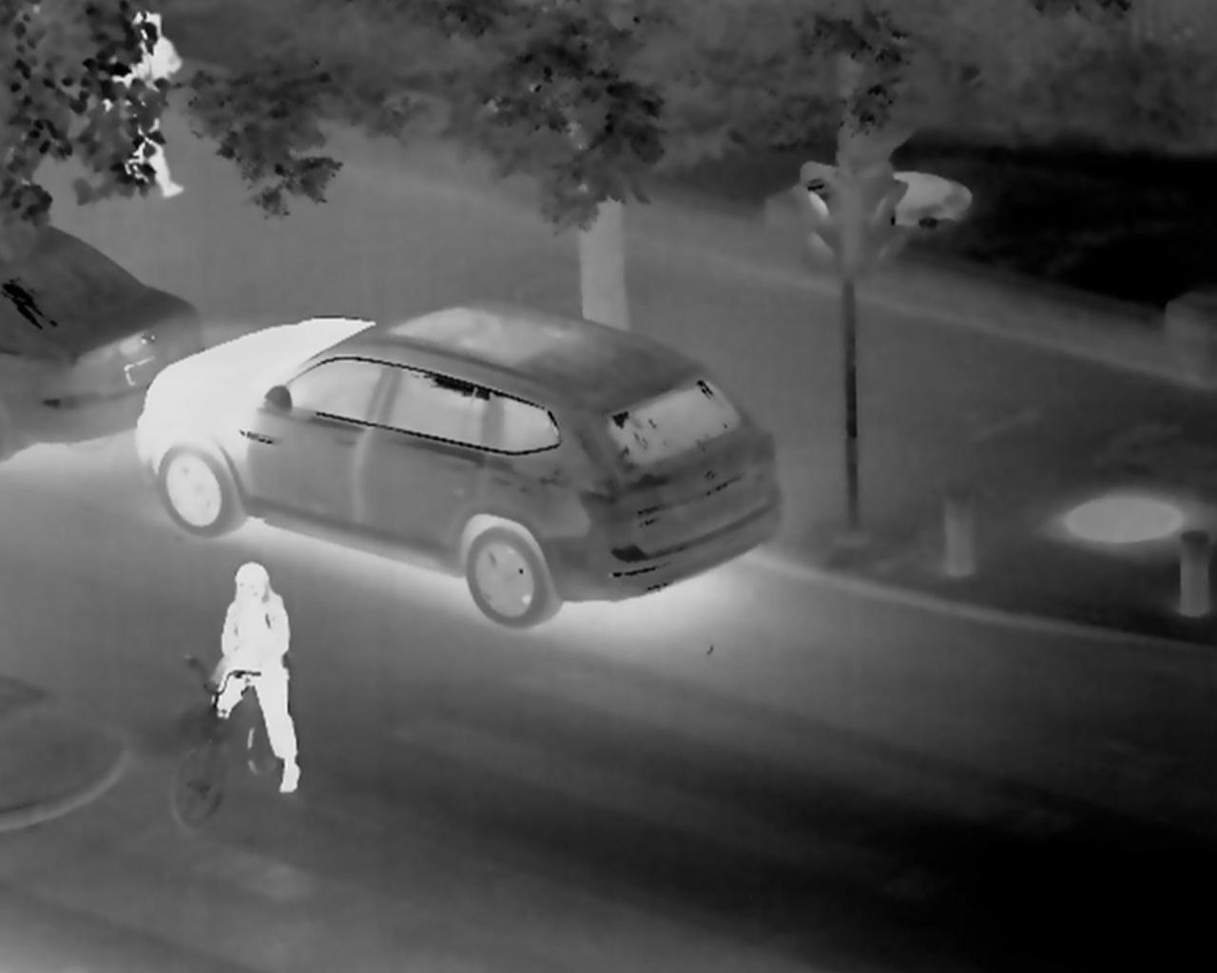person: (207, 561, 310, 799), (106, 9, 192, 200)
